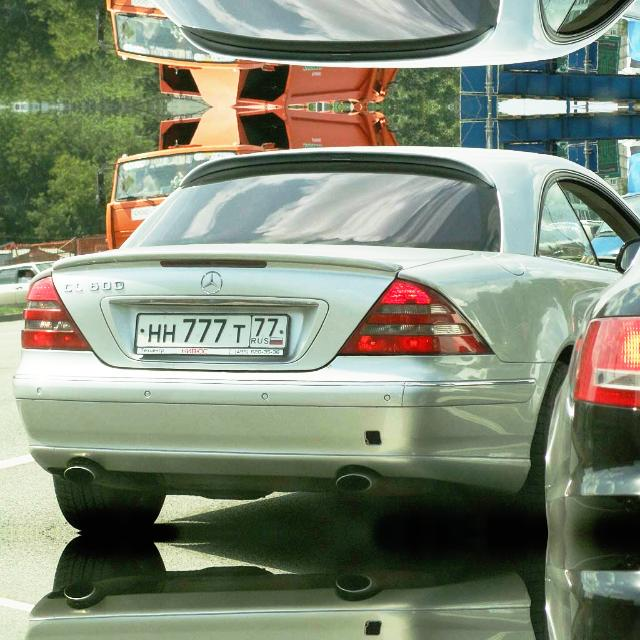citizen: (130, 306, 296, 362)
